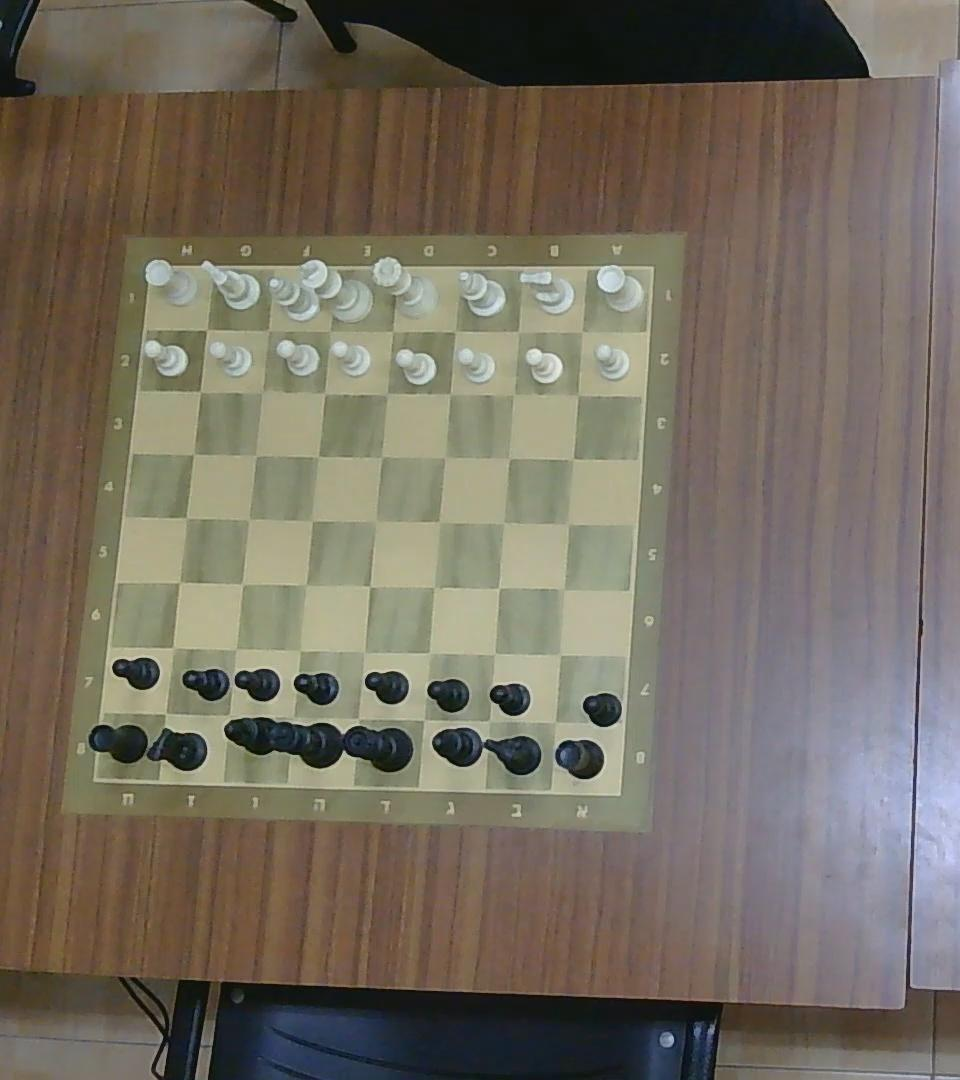xcorner: (344, 707, 370, 733), (154, 701, 178, 725), (217, 703, 240, 727), (478, 709, 500, 731), (542, 712, 566, 732), (162, 637, 184, 658), (319, 320, 341, 340), (288, 639, 310, 659), (413, 710, 434, 730), (365, 511, 386, 531), (169, 572, 189, 592), (246, 445, 266, 465), (183, 443, 202, 464), (376, 383, 395, 403), (440, 383, 459, 403), (423, 577, 442, 597), (483, 645, 503, 664), (429, 511, 448, 531), (504, 383, 523, 403), (280, 711, 300, 730), (225, 638, 245, 657), (296, 574, 315, 593), (196, 319, 215, 338), (259, 319, 278, 338), (559, 513, 578, 532), (420, 643, 439, 662), (382, 321, 401, 340), (550, 645, 569, 664), (354, 642, 374, 660), (315, 383, 333, 402), (371, 447, 389, 466), (361, 577, 379, 596), (446, 321, 464, 340), (177, 508, 195, 527), (510, 321, 528, 340), (573, 321, 591, 340), (495, 513, 513, 532), (570, 385, 588, 404), (489, 579, 507, 598), (555, 579, 573, 598), (435, 448, 453, 466), (500, 448, 518, 466), (190, 382, 208, 400), (253, 382, 271, 400), (240, 510, 258, 528), (303, 510, 320, 529), (309, 446, 326, 464), (233, 575, 251, 592), (564, 450, 582, 467)
